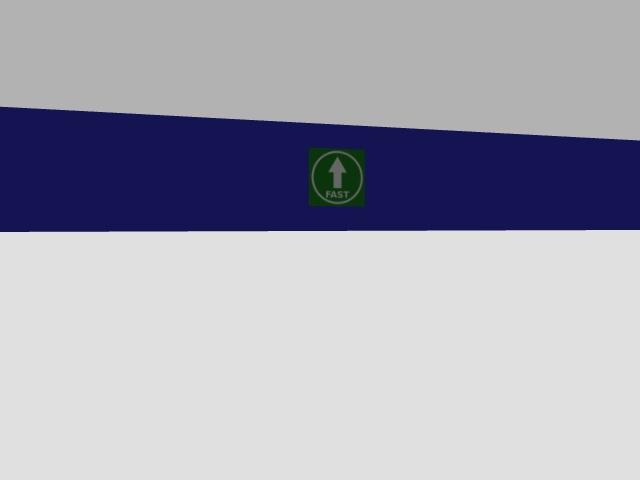fast: (310, 149, 363, 205)
